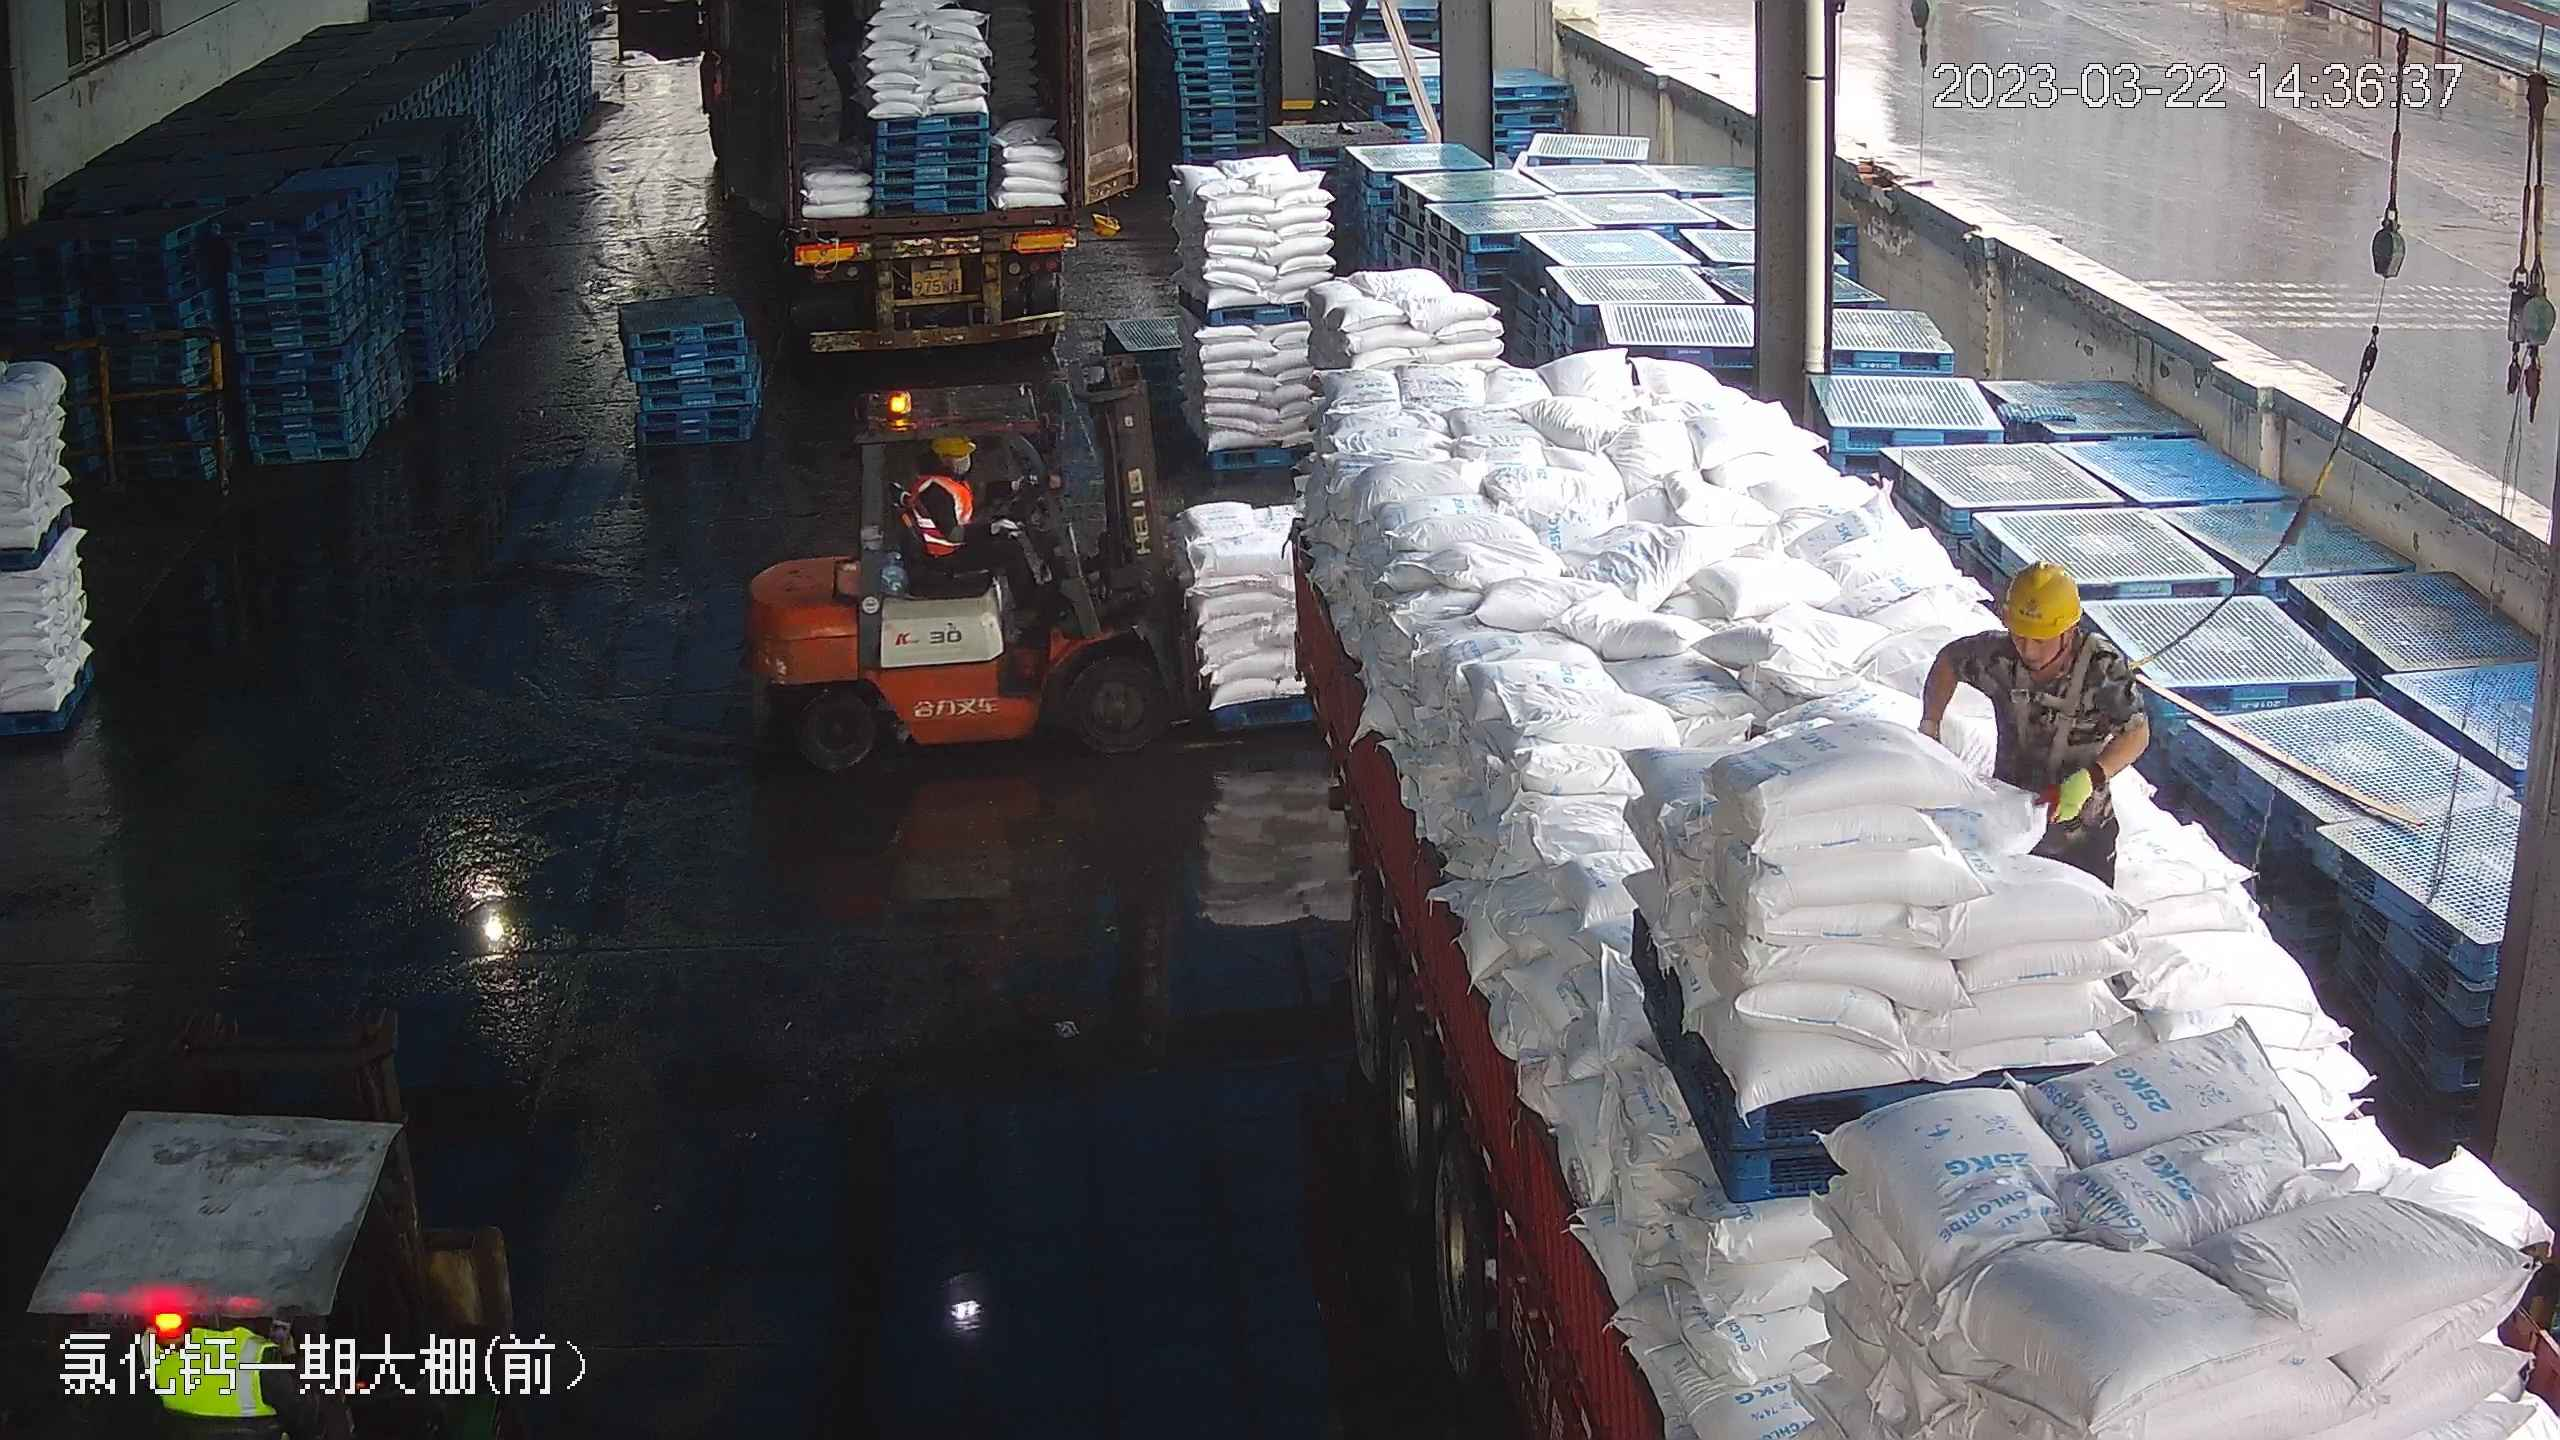belt: (1987, 629, 2118, 766)
head: (1961, 558, 2130, 697), (906, 429, 984, 514)
helmet: (1999, 558, 2081, 640), (929, 430, 975, 457)
people: (1916, 559, 2148, 892), (903, 427, 1068, 625)
truck: (1235, 67, 2548, 1437), (728, 1, 1121, 335)
